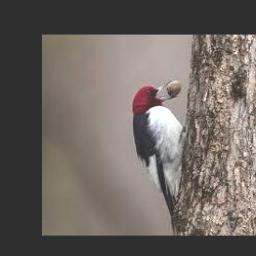Woodpecker: (132, 79, 185, 232)
